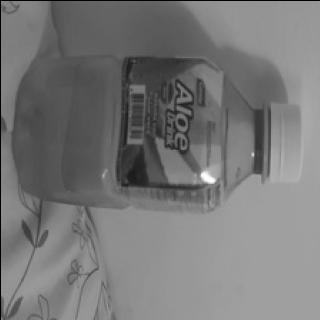plastic_bottles: (11, 47, 304, 220)
